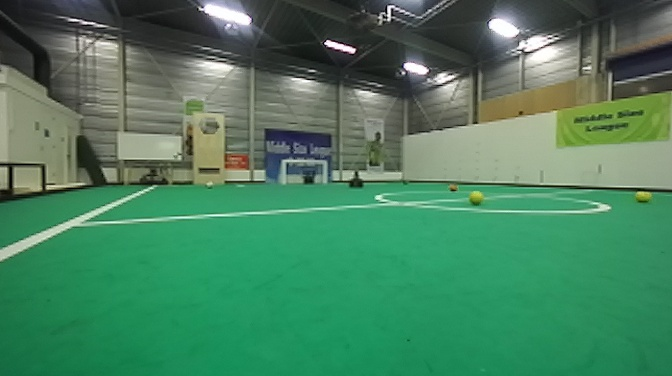ball: (634, 188, 652, 206), (466, 188, 485, 205), (448, 183, 459, 192)
goal: (276, 158, 329, 186)
